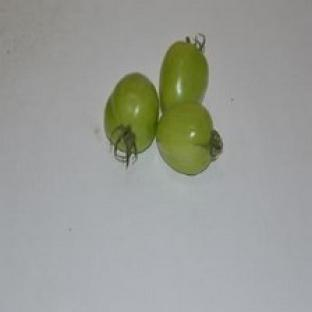Tomato: (104, 73, 158, 165), (156, 102, 222, 175), (159, 35, 208, 111)
